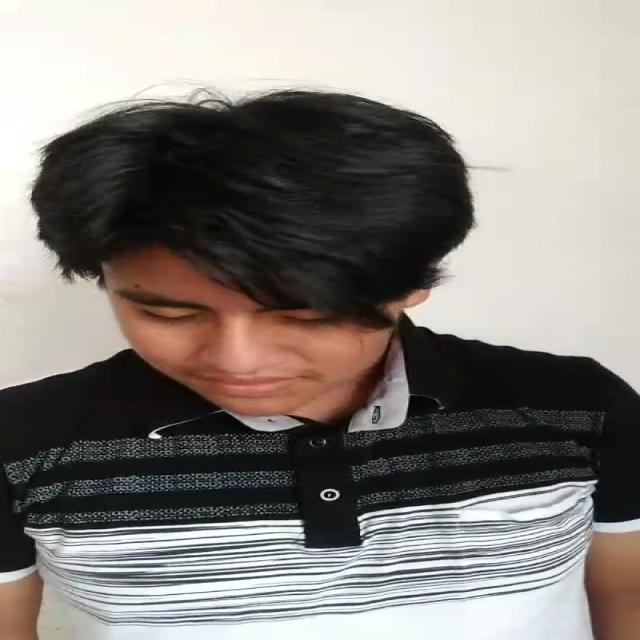9_cabeza_baja: (33, 93, 470, 415)
